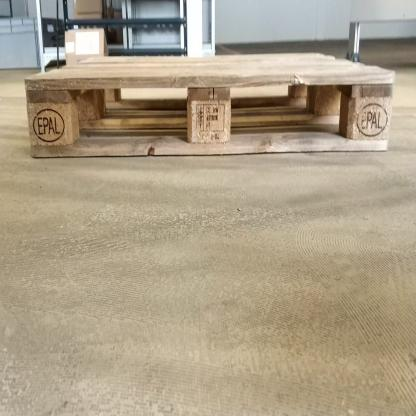BoxFace: (20, 46, 399, 161)
